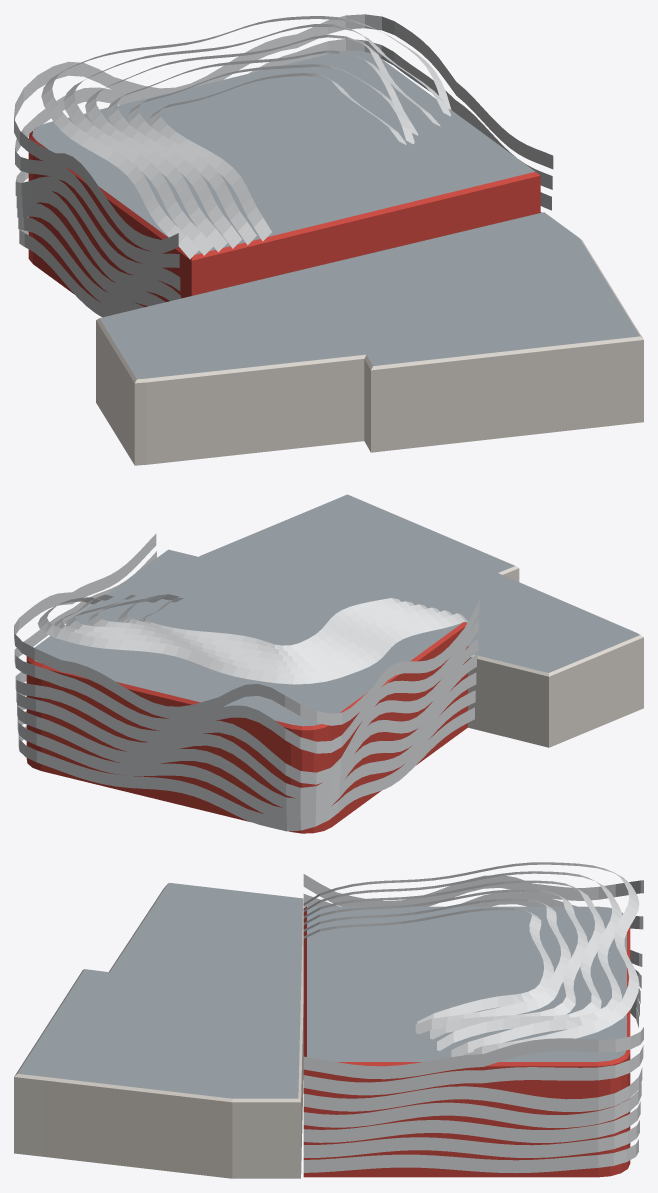
Rendered from la-petersen.glb.
3 renders of one model, top to bottom at view 1: azimuth 30°, elevation 25°; view 2: azimuth 150°, elevation 25°; view 3: azimuth 270°, elevation 25°, orthographic. The views are drawn at different scales.
Parts seen in each view (by area): view 1: Petersen Automotive Museum; view 2: Petersen Automotive Museum; view 3: Petersen Automotive Museum.
Boxes of the visible parts, x1,y1,x2,y2 form: Petersen Automotive Museum: (14, 14, 643, 465); Petersen Automotive Museum: (14, 494, 643, 833); Petersen Automotive Museum: (14, 862, 643, 1178).
Size of the model in its own units: 77.52 by 26.55 by 92.62.
